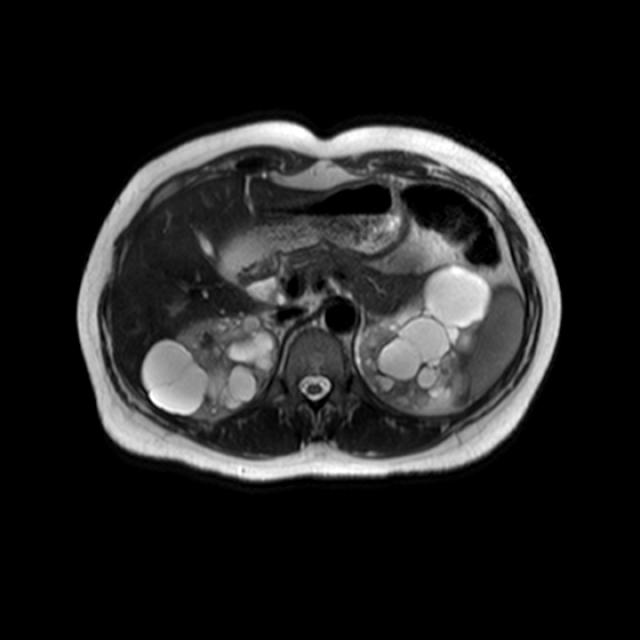sag: (142, 315, 279, 420)
sol: (359, 263, 493, 414)
